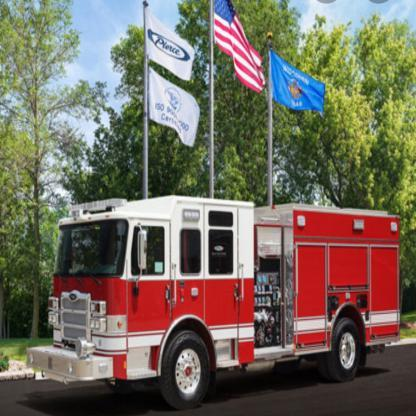fire-truck: (15, 133, 416, 416)
